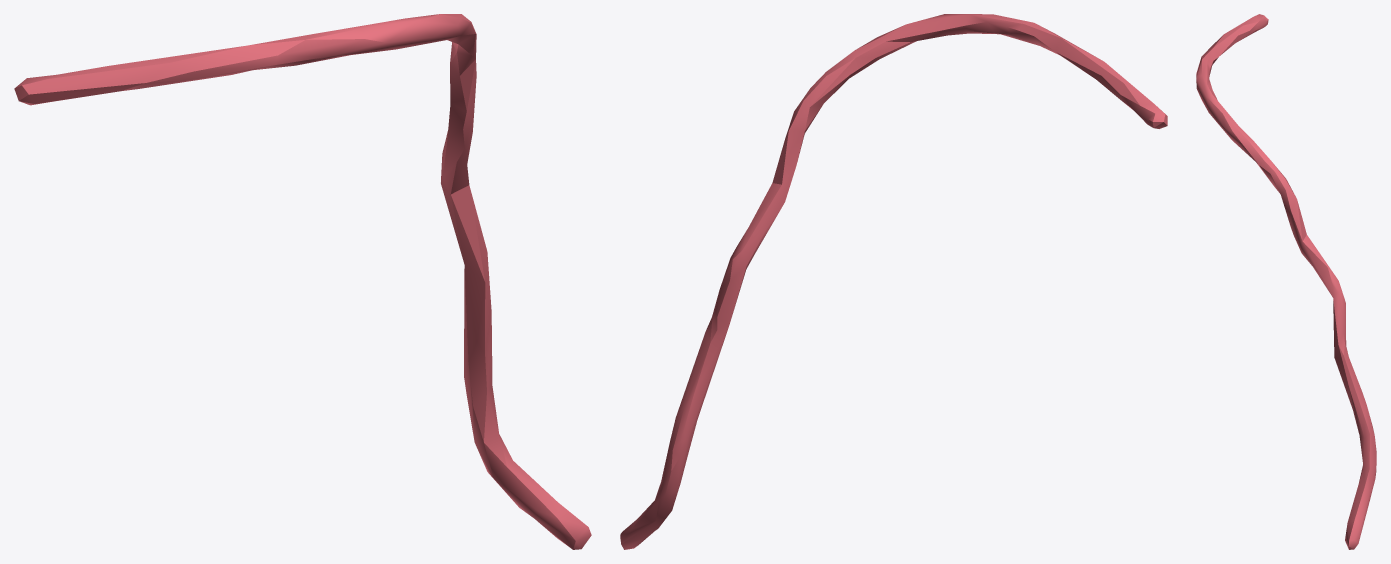
File: fma51378_fj4691.glb
3 views of the same model, side by side, from view 1: azimuth 30°, elevation 25°; view 2: azimuth 150°, elevation 25°; view 3: azimuth 270°, elevation 25° (orthographic). The views are drawn at different scales.
Visible parts, largest first — view 1: FMA51378_FJ4691; view 2: FMA51378_FJ4691; view 3: FMA51378_FJ4691.
Boxes of the visible parts, box(x1,y1,x2,y2) form: FMA51378_FJ4691: box(14, 14, 591, 549); FMA51378_FJ4691: box(620, 14, 1167, 549); FMA51378_FJ4691: box(1196, 14, 1376, 549).
Size of the model in its own units: 0.0155 by 0.016 by 0.00686.
